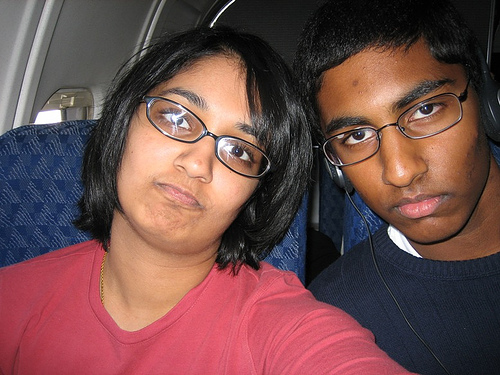without_mask: (310, 45, 495, 247), (108, 61, 278, 257)
